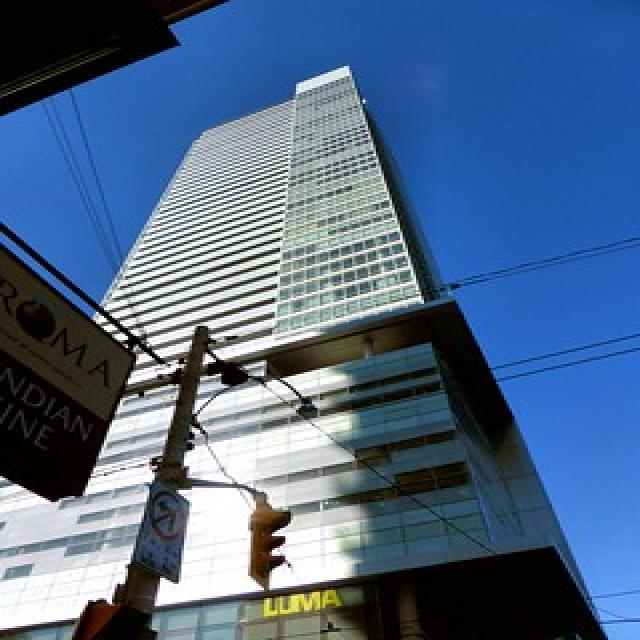Normal_building: (92, 64, 609, 640)
